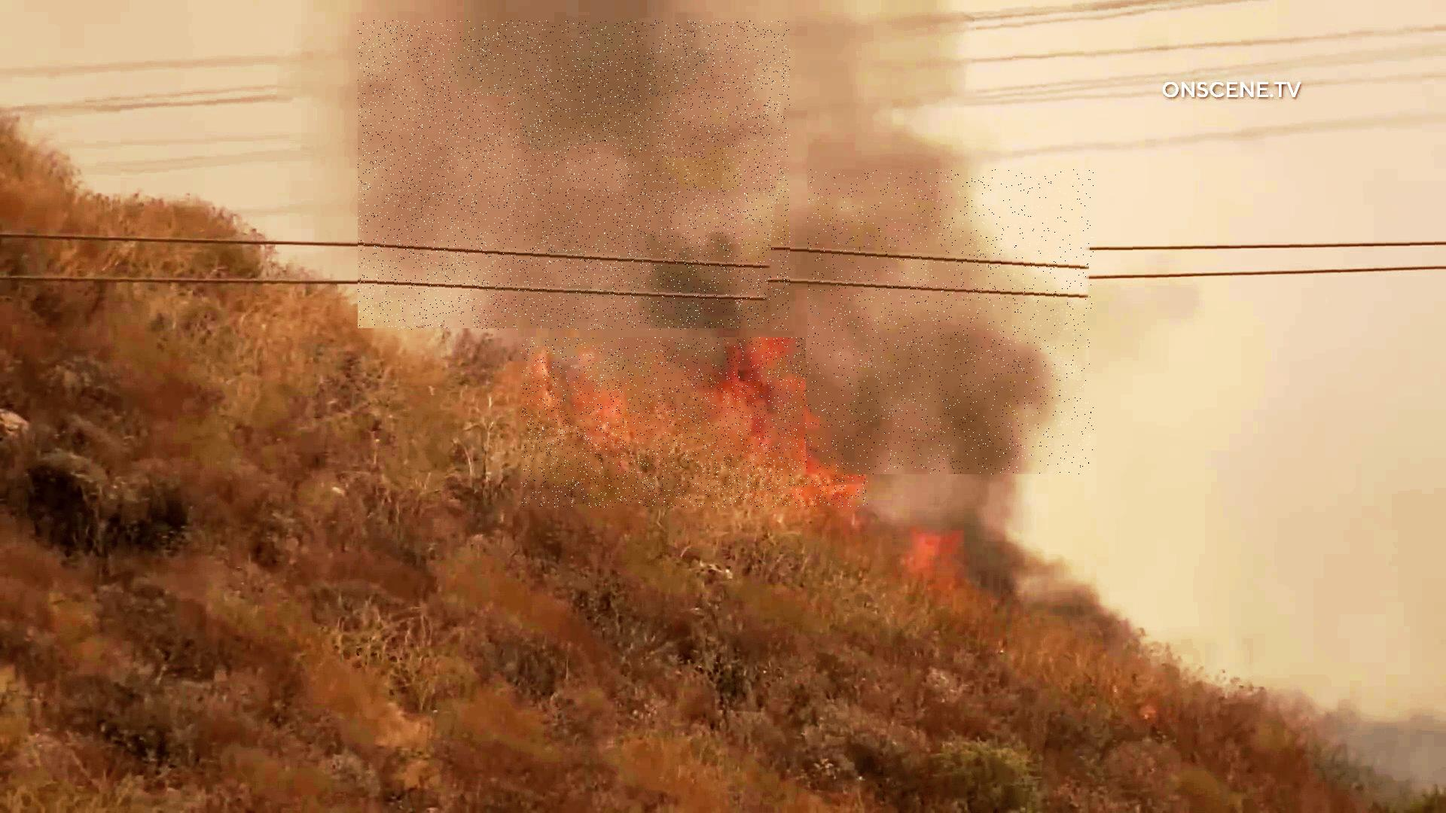fire: (522, 337, 868, 508)
smoke: (358, 21, 790, 330), (808, 170, 1094, 475)
